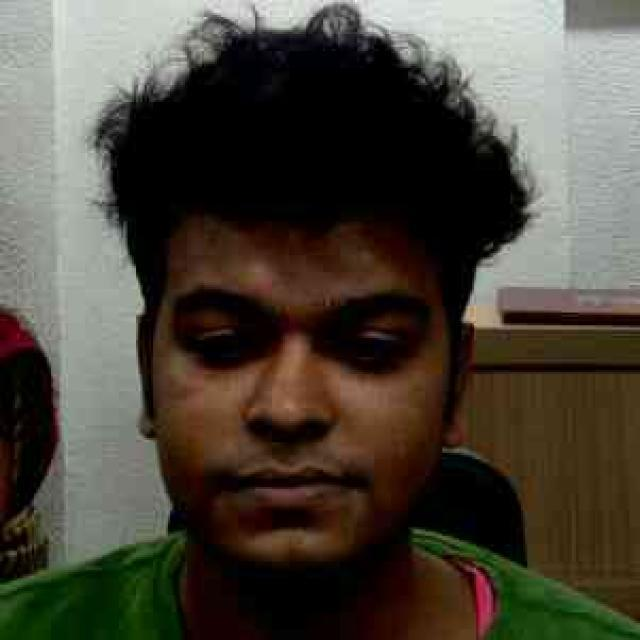Puffy Eyes - v3 Dark Circle: (195, 329, 278, 369), (314, 336, 397, 371)
